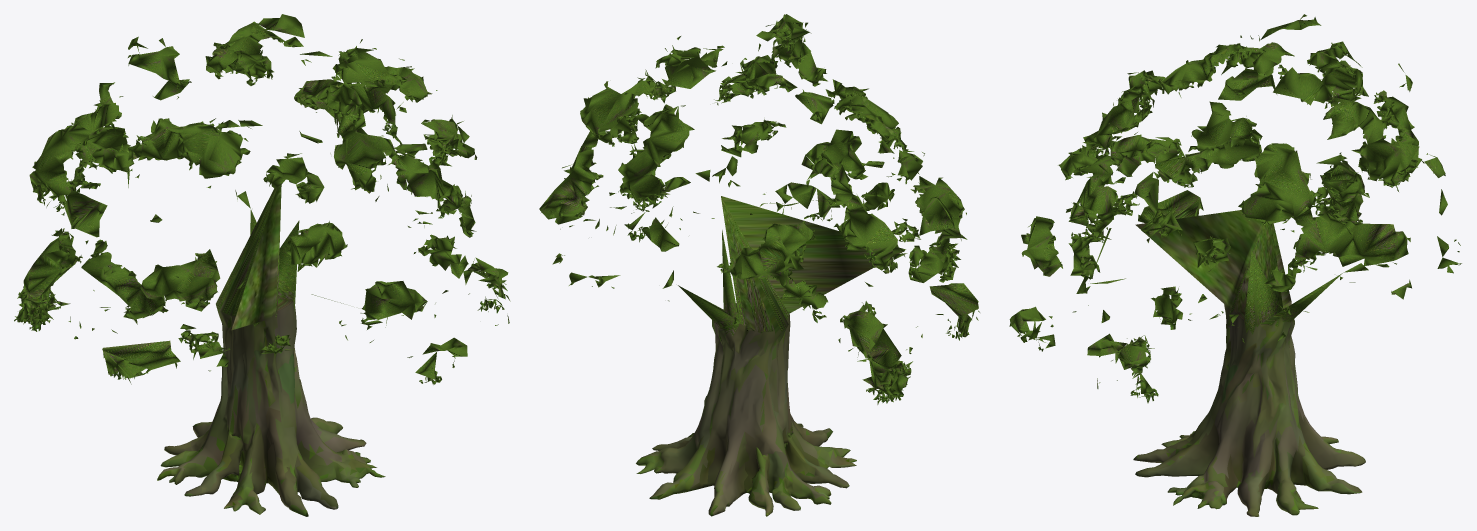
Rendered from tree-b-lod.glb.
3 views of the same model, side by side, from view 1: azimuth 30°, elevation 25°; view 2: azimuth 150°, elevation 25°; view 3: azimuth 270°, elevation 25° (orthographic). The views are drawn at different scales.
Bounding box in the file's own units: 1.85 × 1.97 × 1.92.
Materials: 1 (1 with a texture image).
